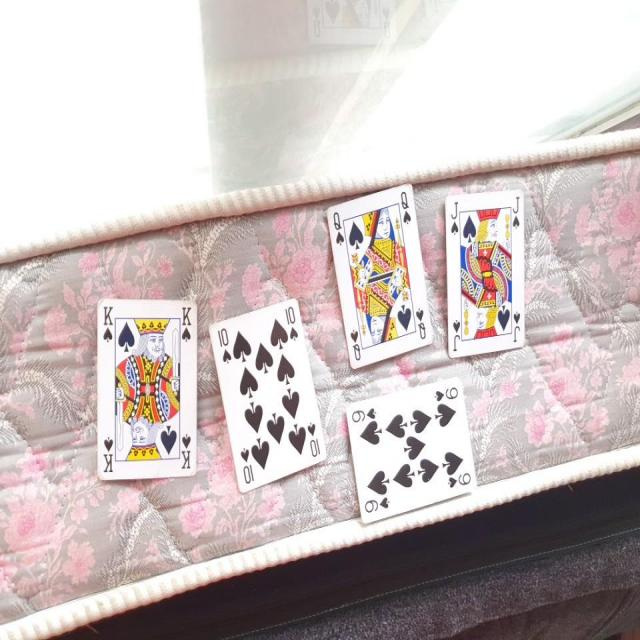10 Spades: (207, 298, 326, 493)
9 Spades: (339, 374, 482, 519)
J Spades: (440, 186, 529, 362)
K Spades: (90, 292, 202, 483)
Q Spades: (321, 178, 436, 370)
